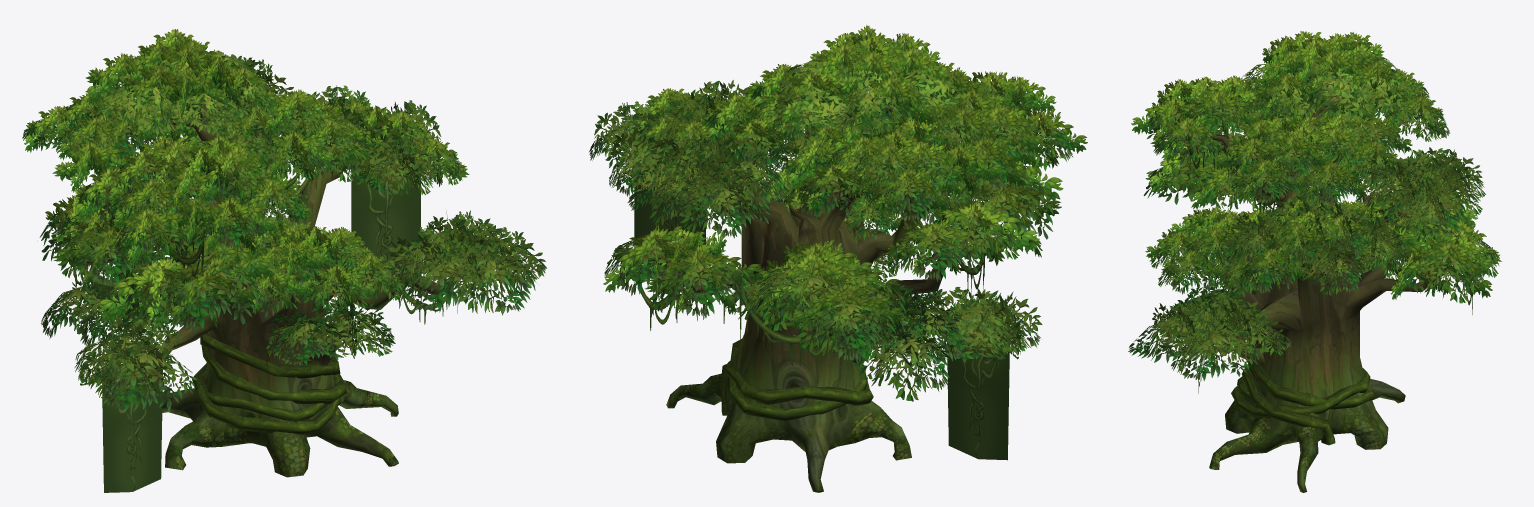
File: sl_shu.FBX
The picture shows the model from 3 angles, left to right: view 1: azimuth 30°, elevation 25°; view 2: azimuth 150°, elevation 25°; view 3: azimuth 270°, elevation 25°; orthographic projection. The views are drawn at different scales.
Visible parts, largest first — view 1: sl_shu04, sl_shu01, sl_shu03, sl_shu05, sl_shu06, sl_shu07, sl_shu02; view 2: sl_shu04, sl_shu01, sl_shu05, sl_shu03, sl_shu06, sl_shu07, sl_shu02; view 3: sl_shu04, sl_shu01, sl_shu03, sl_shu05, sl_shu07, sl_shu02.
Part boxes in pixels (x1,y1,x2,y2): sl_shu04: (24,29,469,328); sl_shu01: (22,93,545,411); sl_shu03: (78,48,546,402); sl_shu05: (83,88,456,477); sl_shu06: (101,142,420,492); sl_shu07: (192,334,346,434); sl_shu02: (70,161,533,324); sl_shu04: (603,25,1087,357); sl_shu01: (589,72,1073,401); sl_shu05: (649,104,994,492); sl_shu03: (594,52,1042,359); sl_shu06: (634,124,1009,460); sl_shu07: (720,328,873,421); sl_shu02: (635,115,1018,366); sl_shu04: (1131,31,1501,299); sl_shu01: (1128,79,1499,380); sl_shu03: (1152,48,1482,370); sl_shu05: (1195,93,1447,492); sl_shu07: (1231,359,1374,445); sl_shu02: (1174,115,1476,393).
Size of the model in its own units: 1398 by 1286 by 1240.
